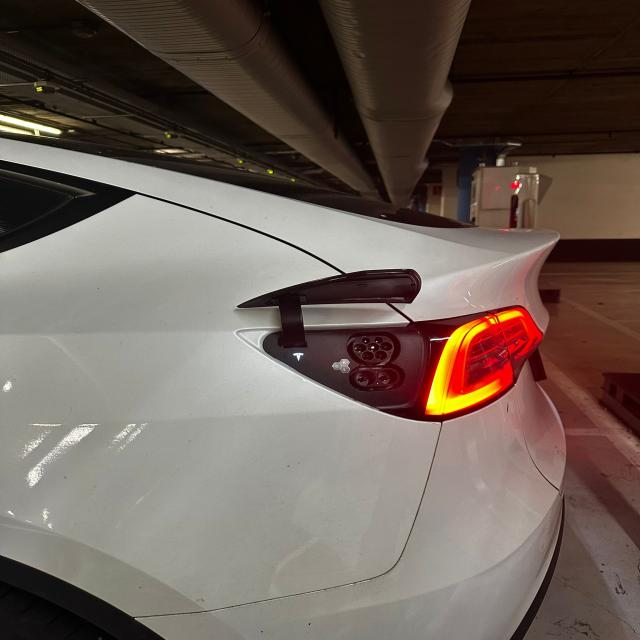inlet: (353, 335, 394, 363)
inlet-above-left: (362, 337, 370, 344)
inlet-above-right: (374, 337, 383, 343)
inlet-below-left: (362, 351, 374, 360)
inlet-below-right: (375, 351, 387, 360)
inlet-circle: (367, 343, 379, 352)
inlet-circle-left: (354, 343, 366, 352)
inlet-circle-right: (380, 342, 392, 351)
inlet-minus: (378, 369, 397, 384)
inlet-plus: (356, 371, 375, 386)
